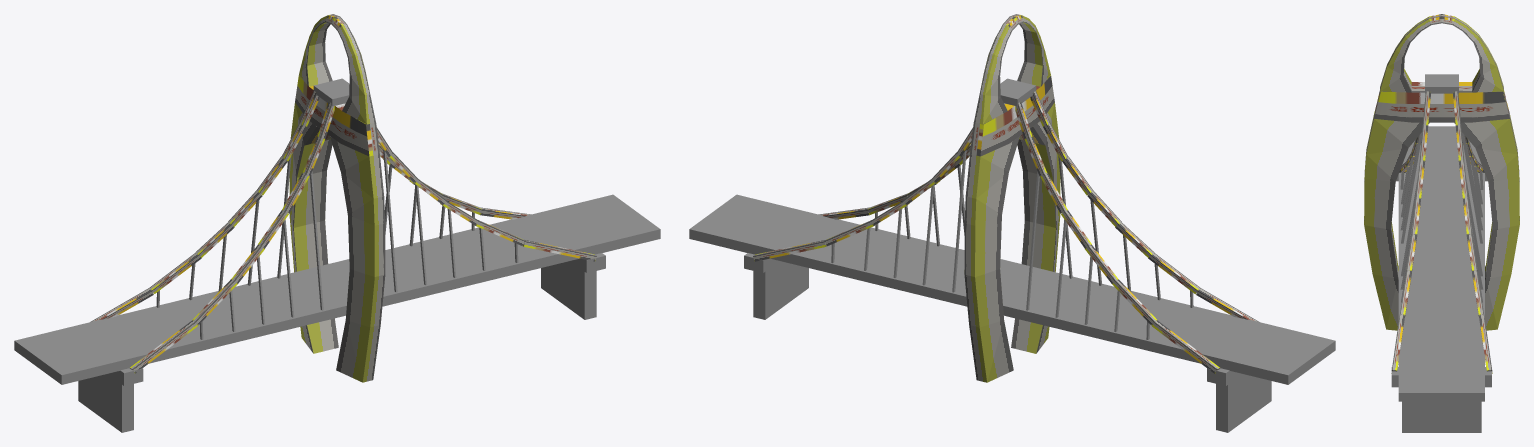
Rendered from Collider.fbx.
The picture shows the model from 3 angles, left to right: view 1: azimuth 30°, elevation 25°; view 2: azimuth 150°, elevation 25°; view 3: azimuth 270°, elevation 25°; orthographic projection. The views are drawn at different scales.
Visible parts, largest first — view 1: UCX_liededaqiao_BOX_29, UCX_liededaqiao_mesh_01, UCX_liededaqiao_BOX_31, UCX_liededaqiao_BOX_30, UCX_liededaqiao_mesh_12, UCX_liededaqiao_mesh_06, UCX_liededaqiao_mesh_07, UCX_liededaqiao_mesh_04, UCX_liededaqiao_mesh_17, UCX_liededaqiao_mesh_18, UCX_liededaqiao_mesh_05, UCX_liededaqiao_mesh_14 (+5 smaller); view 2: UCX_liededaqiao_BOX_29, UCX_liededaqiao_mesh_01, UCX_liededaqiao_BOX_31, UCX_liededaqiao_BOX_30, UCX_liededaqiao_mesh_14, UCX_liededaqiao_mesh_17, UCX_liededaqiao_mesh_18, UCX_liededaqiao_mesh_15, UCX_liededaqiao_mesh_06, UCX_liededaqiao_mesh_07, UCX_liededaqiao_mesh_16, UCX_liededaqiao_mesh_12 (+5 smaller); view 3: UCX_liededaqiao_BOX_29, UCX_liededaqiao_mesh_01, UCX_liededaqiao_BOX_31, UCX_liededaqiao_mesh_04, UCX_liededaqiao_mesh_15, UCX_liededaqiao_mesh_06, UCX_liededaqiao_mesh_17, UCX_liededaqiao_mesh_07, UCX_liededaqiao_mesh_18, UCX_liededaqiao_mesh_05, UCX_liededaqiao_mesh_16, UCX_liededaqiao_mesh_12 (+31 smaller).
Part boxes in pixels (box(x1,y1,x2,y2)): UCX_liededaqiao_BOX_29: box(14, 194, 660, 384); UCX_liededaqiao_mesh_01: box(295, 75, 379, 156); UCX_liededaqiao_BOX_31: box(541, 261, 596, 319); UCX_liededaqiao_BOX_30: box(78, 374, 133, 432); UCX_liededaqiao_mesh_12: box(336, 320, 380, 382); UCX_liededaqiao_mesh_06: box(348, 215, 385, 276); UCX_liededaqiao_mesh_07: box(345, 269, 385, 327); UCX_liededaqiao_mesh_04: box(330, 136, 383, 198); UCX_liededaqiao_mesh_17: box(289, 166, 326, 227); UCX_liededaqiao_mesh_18: box(289, 216, 328, 272); UCX_liededaqiao_mesh_05: box(341, 172, 384, 225); UCX_liededaqiao_mesh_14: box(300, 318, 338, 353); UCX_liededaqiao_BOX_29: box(689, 194, 1335, 384); UCX_liededaqiao_mesh_01: box(970, 75, 1054, 156); UCX_liededaqiao_BOX_31: box(753, 261, 808, 319); UCX_liededaqiao_BOX_30: box(1216, 374, 1271, 432); UCX_liededaqiao_mesh_14: box(969, 320, 1013, 382); UCX_liededaqiao_mesh_17: box(964, 215, 1001, 276); UCX_liededaqiao_mesh_18: box(964, 269, 1003, 327); UCX_liededaqiao_mesh_15: box(965, 136, 1019, 198); UCX_liededaqiao_mesh_06: box(1022, 166, 1060, 227); UCX_liededaqiao_mesh_07: box(1021, 215, 1060, 272); UCX_liededaqiao_mesh_16: box(964, 172, 1008, 225); UCX_liededaqiao_mesh_12: box(1011, 318, 1049, 353); UCX_liededaqiao_BOX_29: box(1398, 126, 1484, 401); UCX_liededaqiao_mesh_01: box(1374, 82, 1509, 122); UCX_liededaqiao_BOX_31: box(1402, 401, 1481, 432); UCX_liededaqiao_mesh_04: box(1366, 115, 1429, 154); UCX_liededaqiao_mesh_15: box(1454, 115, 1517, 154); UCX_liededaqiao_mesh_06: box(1364, 177, 1395, 229); UCX_liededaqiao_mesh_17: box(1488, 177, 1519, 229); UCX_liededaqiao_mesh_07: box(1364, 222, 1397, 278); UCX_liededaqiao_mesh_18: box(1486, 222, 1519, 278); UCX_liededaqiao_mesh_05: box(1364, 148, 1408, 181); UCX_liededaqiao_mesh_16: box(1475, 148, 1519, 181); UCX_liededaqiao_mesh_12: box(1372, 265, 1398, 330).
Bounding box in the file's own units: 322 × 175 × 79.35.
